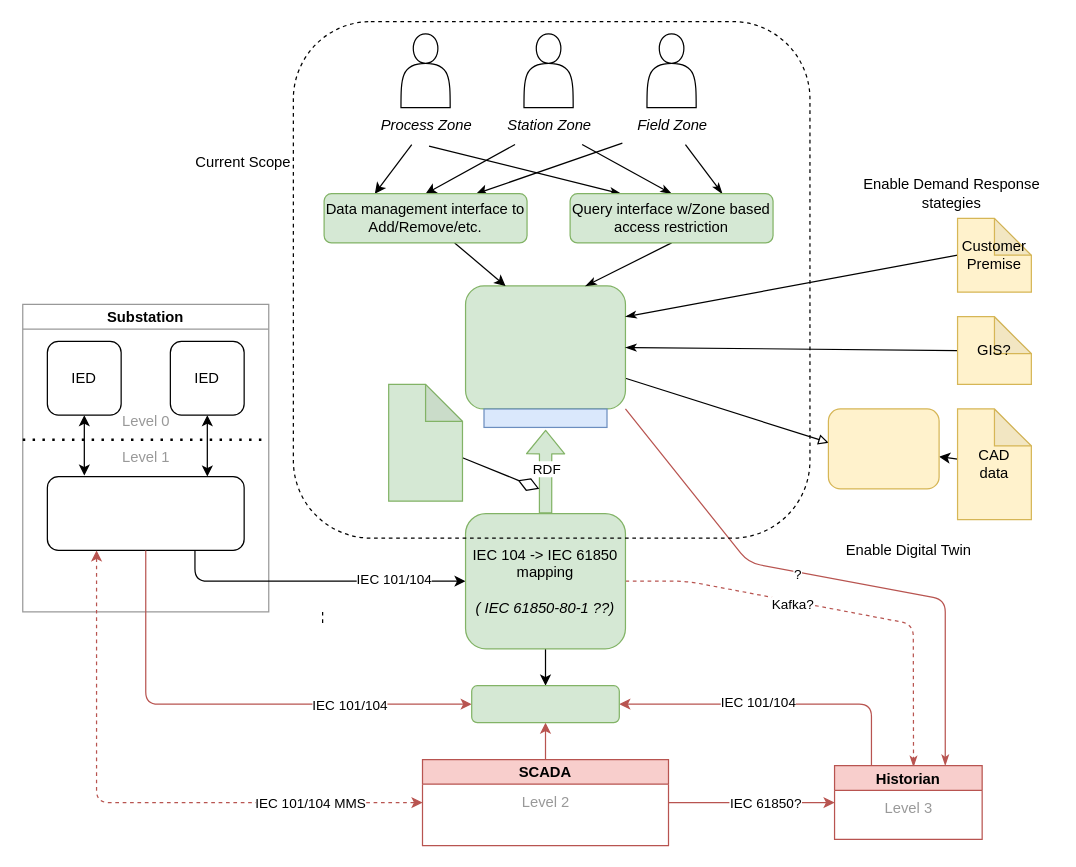
The diagram is 1076 pixels wide and 867 high, and some of its shapes have lost their labels. The centre of each missing label's shape, as x and y in pixels:
"Additional Data?" goes at point (424, 442).
"Component Localization in CAD" goes at point (883, 448).
"Data Catalog w/ Knowledge Graph" goes at point (544, 347).
"Kafka Broker" goes at point (544, 703).
"neosemantics?" goes at point (545, 417).
"PLC" goes at point (145, 512).
